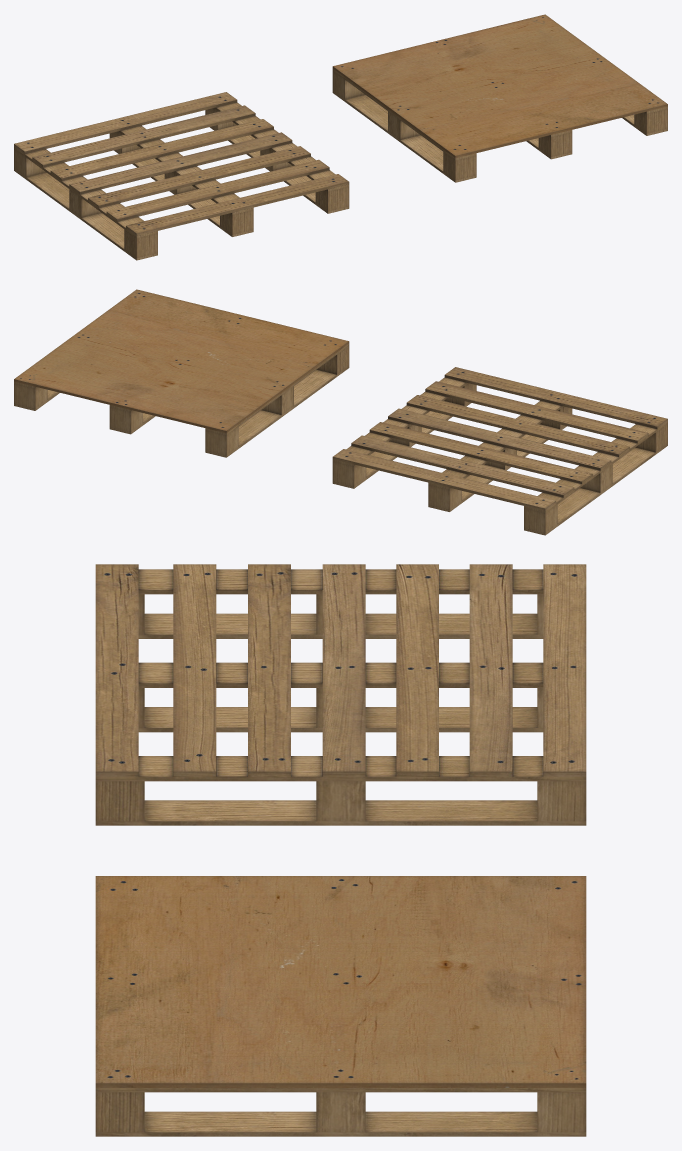
The model's file is wooden_pallets.glb.
3 renders of one model, top to bottom at view 1: azimuth 30°, elevation 25°; view 2: azimuth 150°, elevation 25°; view 3: azimuth 270°, elevation 25°, orthographic. The views are drawn at different scales.
Visible parts, largest first — view 1: Pallet_2, Pallet_1; view 2: Pallet_2, Pallet_1; view 3: Pallet_2, Pallet_1.
Part boxes in pixels (left/top/right/bottom): Pallet_2: left=332, top=14, right=667, bottom=182; Pallet_1: left=14, top=92, right=349, bottom=260; Pallet_2: left=14, top=289, right=349, bottom=457; Pallet_1: left=332, top=367, right=667, bottom=535; Pallet_2: left=95, top=876, right=586, bottom=1136; Pallet_1: left=95, top=564, right=586, bottom=825.
Size of the model in its own units: 5 by 0.2429 by 2.
Materials: 2 (2 with a texture image).
